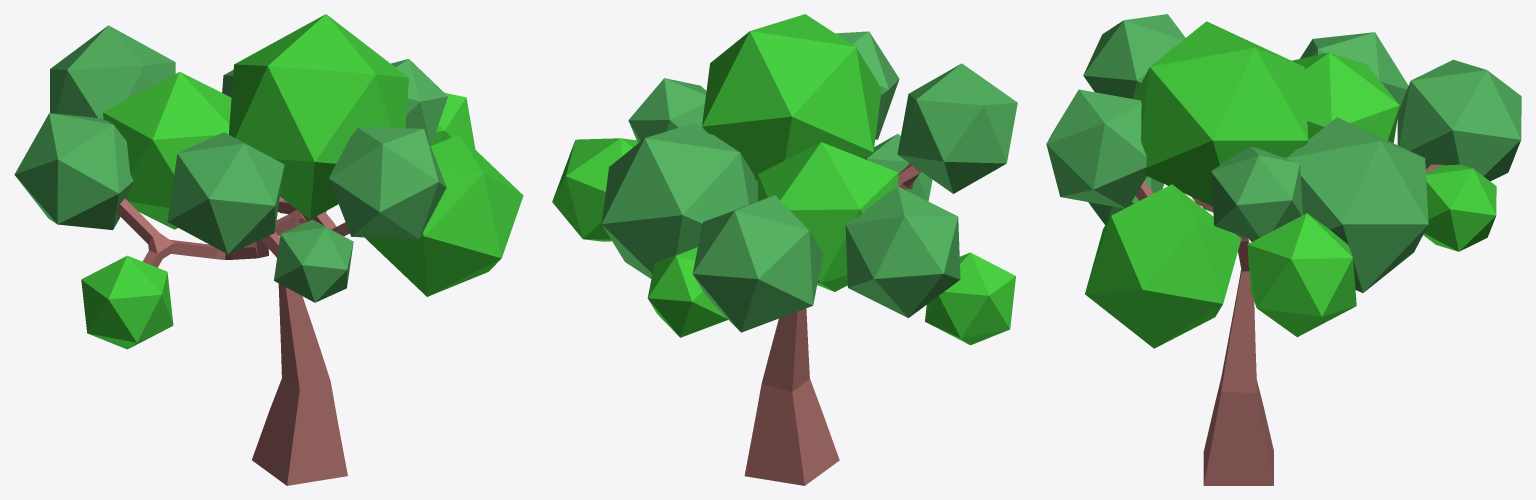
File: Low Poly Tree.fbx
3 views of the same model, side by side, from view 1: azimuth 30°, elevation 25°; view 2: azimuth 150°, elevation 25°; view 3: azimuth 270°, elevation 25° (orthographic).
Visible parts, largest first — view 1: Leaf.008, Tree, Leaf.005, Leaf.004, Leaf.002, Leaf, Leaf.012, Leaf.009, Leaf.001, Leaf.003, Leaf.006, Leaf.007; view 2: Leaf.008, Leaf.011, Leaf.009, Leaf, Leaf.002, Tree, Leaf.012, Leaf.001, Leaf.007, Leaf.010, Leaf.006, Leaf.004 (+1 smaller); view 3: Leaf.008, Leaf.005, Leaf.011, Leaf.009, Leaf.007, Tree, Leaf.004, Leaf.006, Leaf.012, Leaf.010, Leaf.002, Leaf (+1 smaller).
Part boxes in pixels (x1,y1,x2,y2): Leaf.008: (229,14,408,219); Tree: (116,197,349,485); Leaf.005: (364,134,523,296); Leaf.004: (329,126,446,239); Leaf.002: (167,132,284,254); Leaf: (14,113,133,229); Leaf.012: (103,72,231,229); Leaf.009: (50,25,175,118); Leaf.001: (81,255,173,349); Leaf.003: (274,219,353,302); Leaf.006: (391,59,447,145); Leaf.007: (431,93,475,149); Leaf.008: (702,14,881,182); Leaf.011: (601,123,757,278); Leaf.009: (692,195,823,332); Leaf: (845,186,960,317); Leaf.002: (897,63,1017,193); Tree: (744,163,921,485); Leaf.012: (758,142,898,291); Leaf.001: (925,252,1015,345); Leaf.007: (552,138,637,241); Leaf.010: (647,247,728,337); Leaf.006: (628,78,706,143); Leaf.004: (835,31,899,139); Leaf.008: (1133,21,1308,206); Leaf.005: (1085,184,1241,348); Leaf.011: (1286,117,1428,292); Leaf.009: (1397,59,1521,181); Leaf.007: (1247,213,1356,337); Tree: (1135,164,1442,485); Leaf.004: (1046,89,1146,208); Leaf.006: (1211,147,1302,240); Leaf.012: (1292,52,1399,143); Leaf.010: (1423,164,1496,251); Leaf.002: (1083,14,1185,98); Leaf: (1300,32,1408,109).
Bounding box in the file's own units: 9.46 × 9.3 × 9.51.
